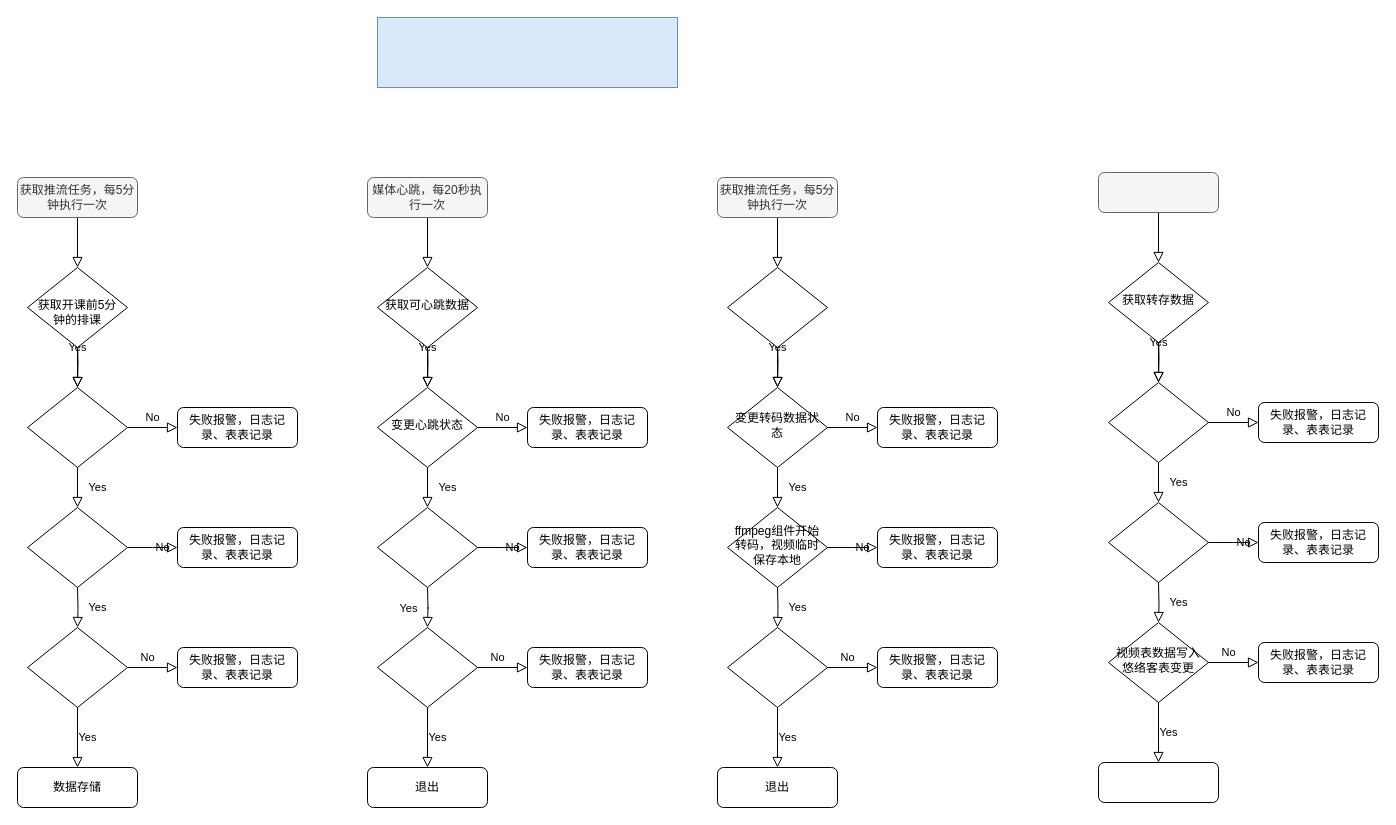
Image size: 1396x825. Some labels were removed from this diagram. The centre of each missing label's shape, as x and y in pixels:
"上传OSS" goes at point 1158,542.
"停止心跳" goes at point 427,667.
"删除临时保存本地视频，结束" goes at point 1158,782.
"变更转存数据状态" goes at point 1158,422.
"场地SN与匹配悠络客教室SN" goes at point 77,427.
"悠络客项目推流到视频存储流程图" goes at point 527,52.
"更新数据" goes at point 777,667.
"根据上课时长，计算心跳次数，悠络客30秒我们按25秒" goes at point 427,547.
"获取悠络客实时播放链接" goes at point 77,667.
"获取悠络客视频播放token" goes at point 77,547.
"获取未转码数据" goes at point 777,307.
"转存业务任务，每5分钟执行一次" goes at point 1158,192.
